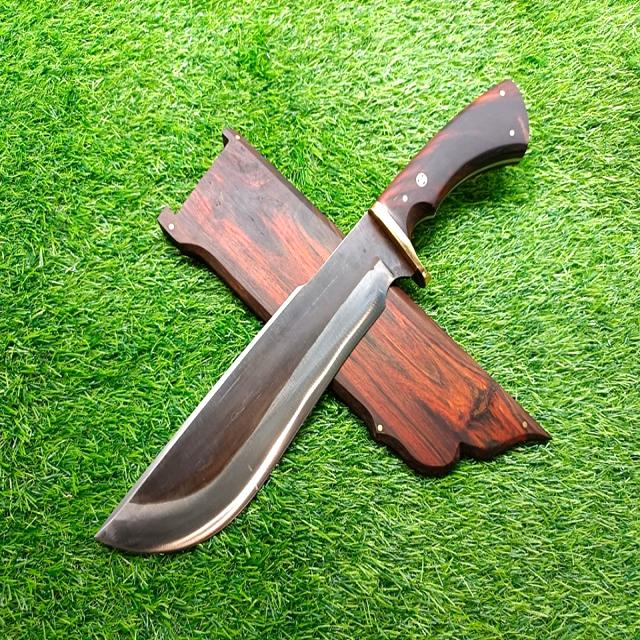eto: (82, 68, 541, 562)
